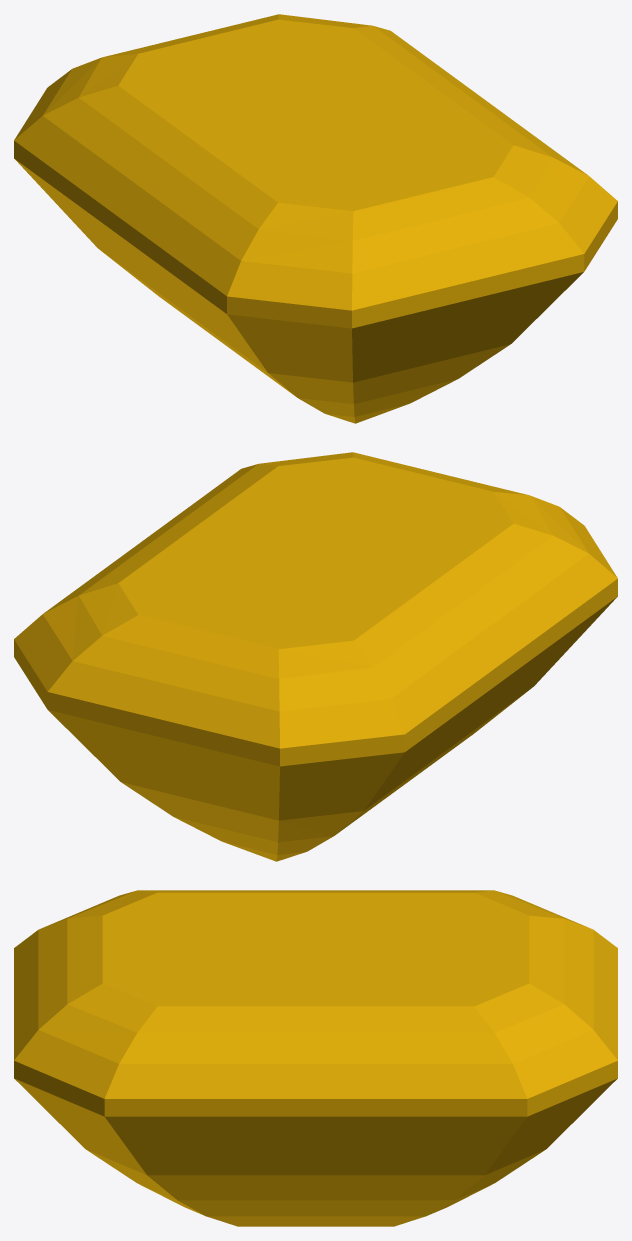
File: EmeraldDiamond.glb
3 views of the same model, one above another, from view 1: azimuth 30°, elevation 25°; view 2: azimuth 150°, elevation 25°; view 3: azimuth 270°, elevation 25° (orthographic).
Parts seen in each view (by area): view 1: Emerald_MainMin001; view 2: Emerald_MainMin001; view 3: Emerald_MainMin001.
Part boxes in pixels (x1,y1,x2,y2): Emerald_MainMin001: (14, 14, 617, 423); Emerald_MainMin001: (14, 452, 617, 861); Emerald_MainMin001: (14, 890, 617, 1226).
Size of the model in its own units: 48 by 32.8 by 64.8.
